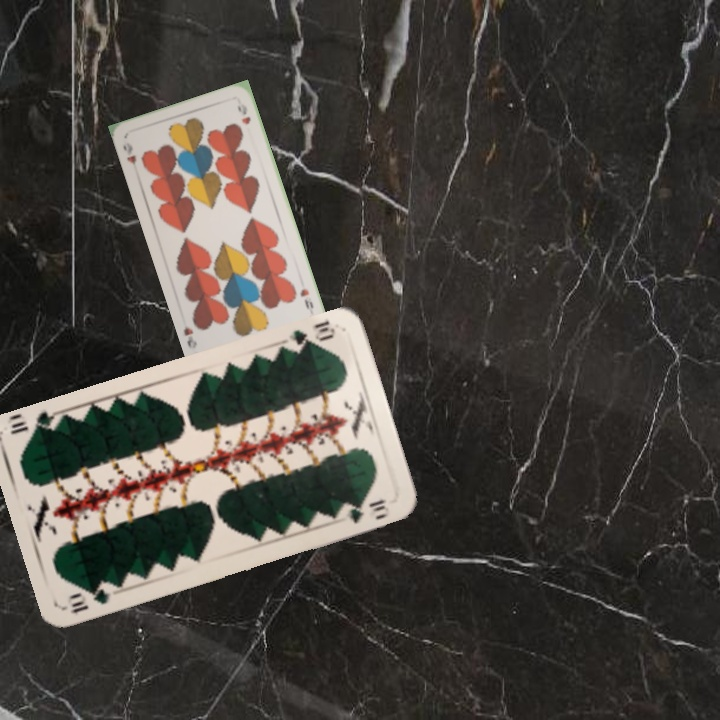G10: (282, 316, 338, 355), (66, 583, 112, 616)
H9: (119, 139, 140, 175), (296, 284, 316, 315)
